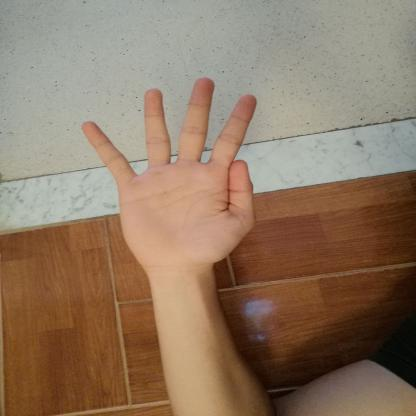SHEEN: (66, 69, 276, 274)
